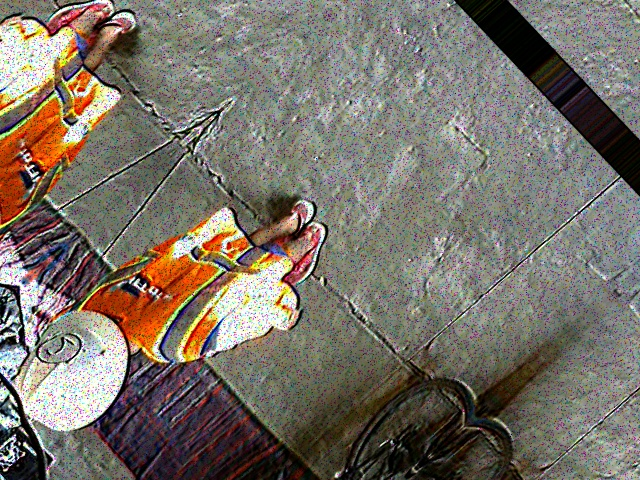two: (33, 324, 86, 374)
